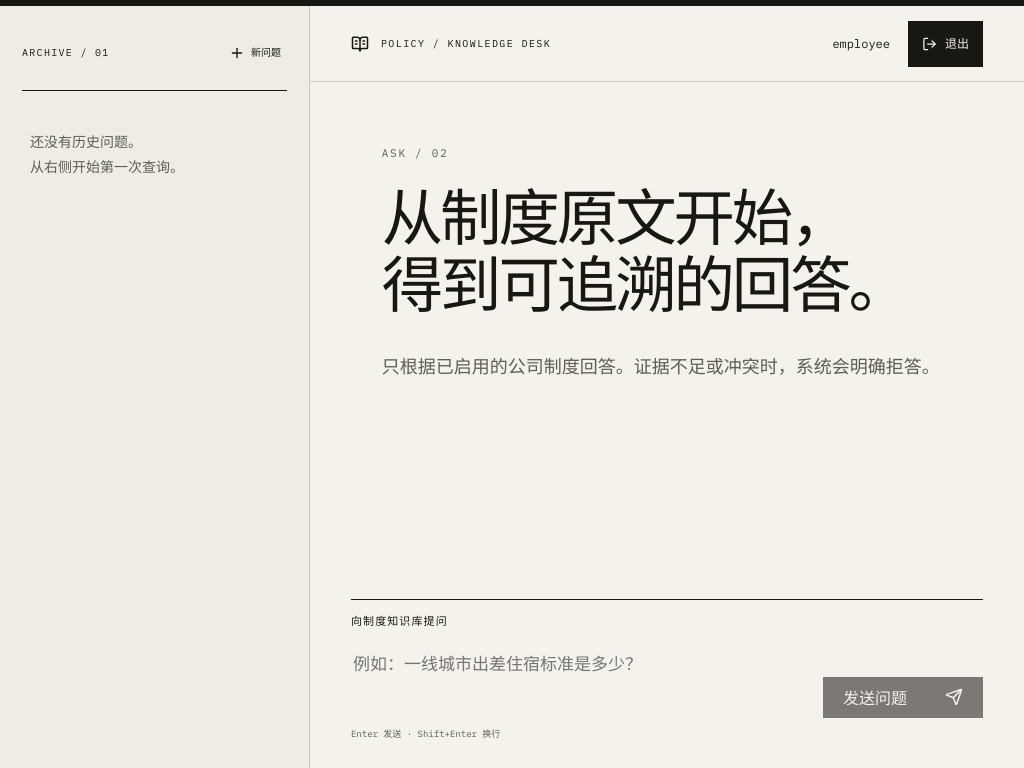
Test: question workspace › shows strict abstention and disables asking when the corpus is unavailable
Step 1. Type "年假制度是什么？" into the text box labelled "向制度知识库提问" → point(580, 678), box [351,639,809,718]
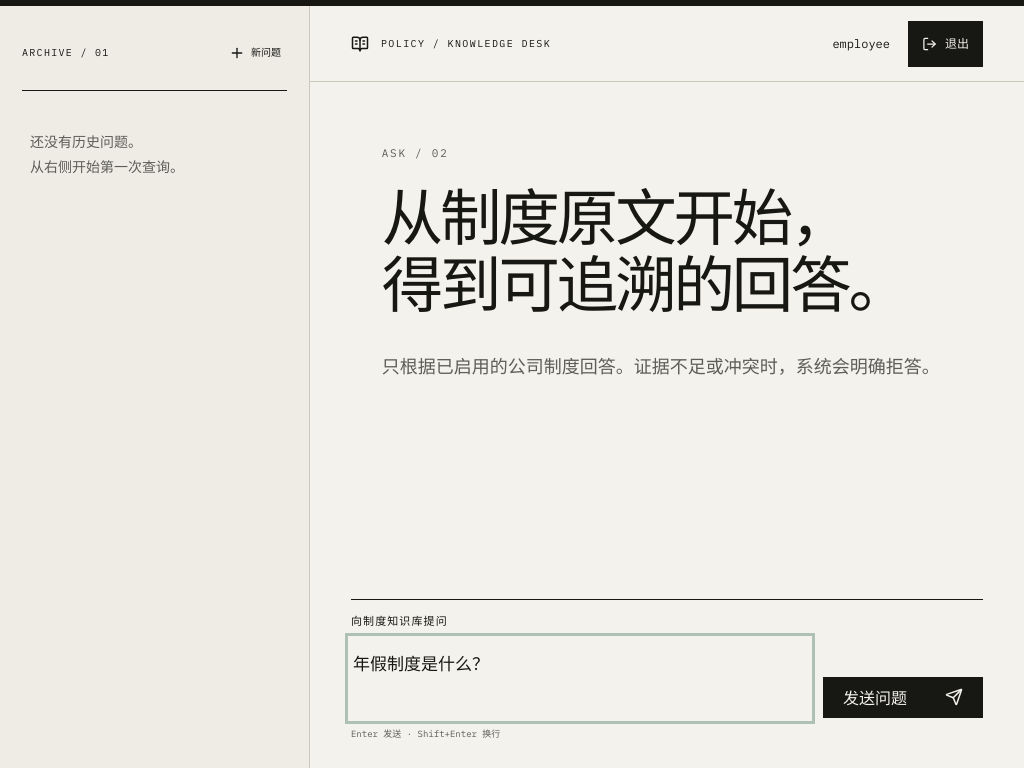
Step 2. Click the button "发送问题" → point(903, 697), box [823,677,983,718]
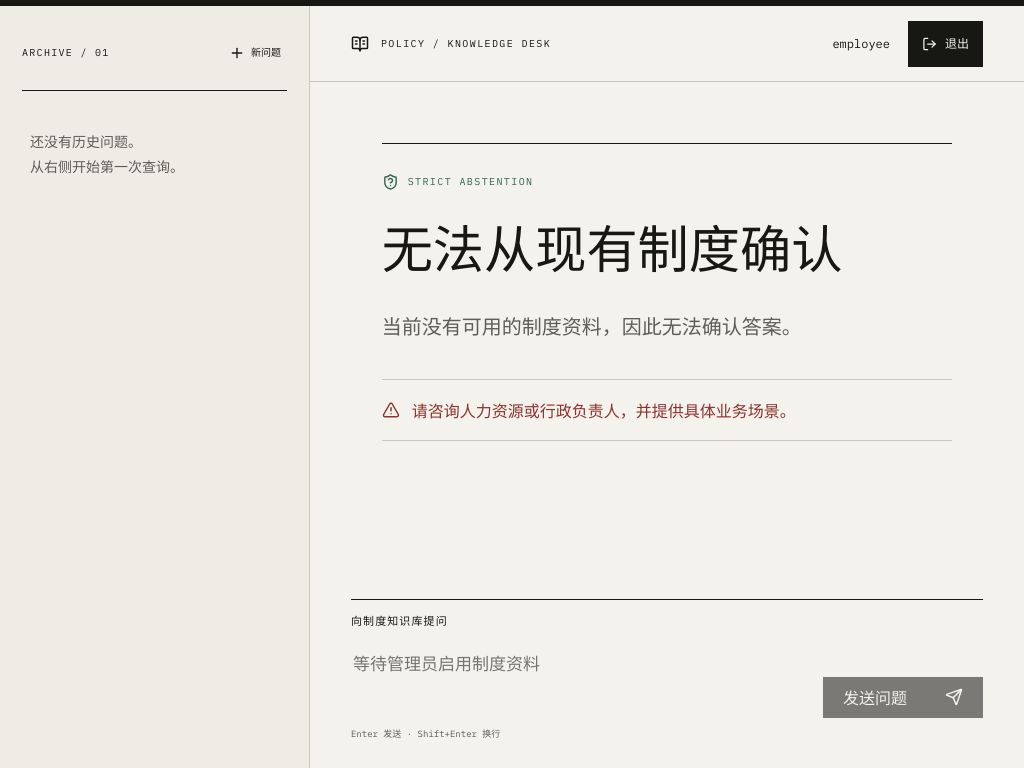
Expected: the text "当前没有可用的制度资料，因此无法确认答案。" is shown, [382,316,802,338]
Expected: the text box labelled "向制度知识库提问" is disabled, [351,639,809,718]
